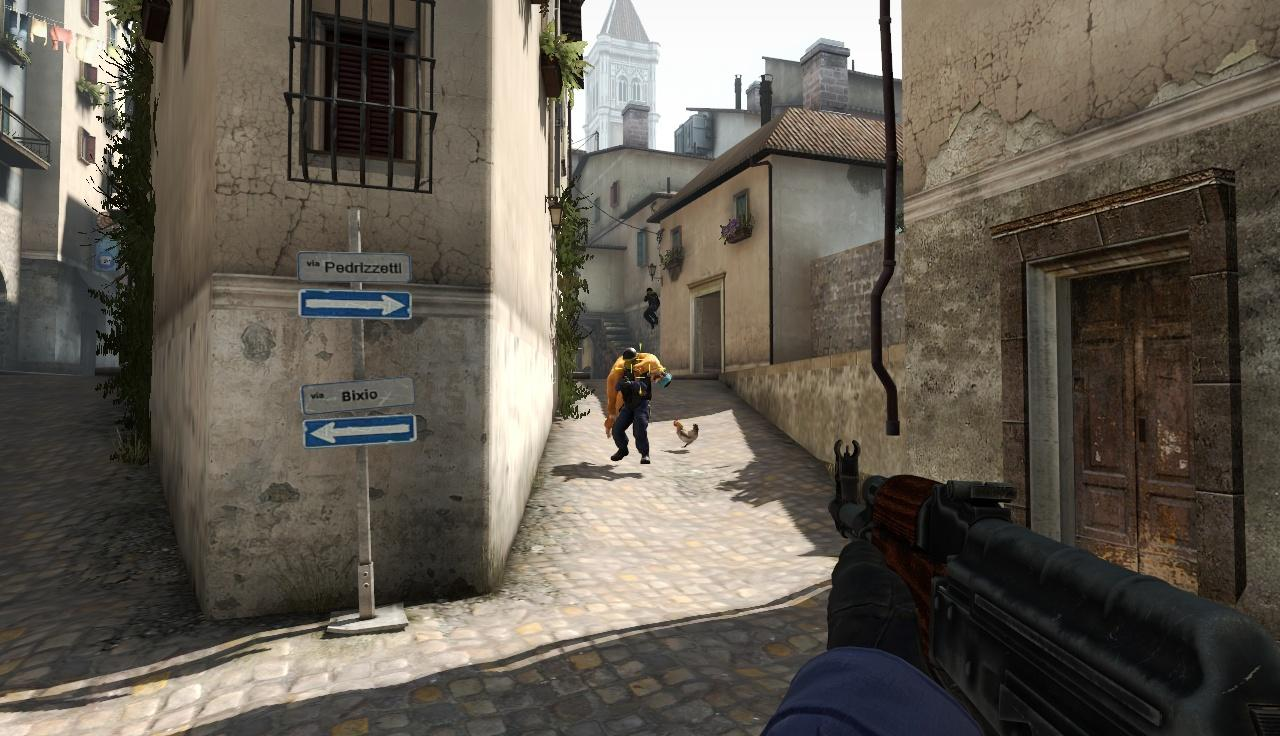ct: (612, 348, 651, 465), (644, 287, 659, 324)
cthead: (622, 347, 640, 370), (646, 288, 654, 295)
rifle: (821, 436, 1280, 736)
